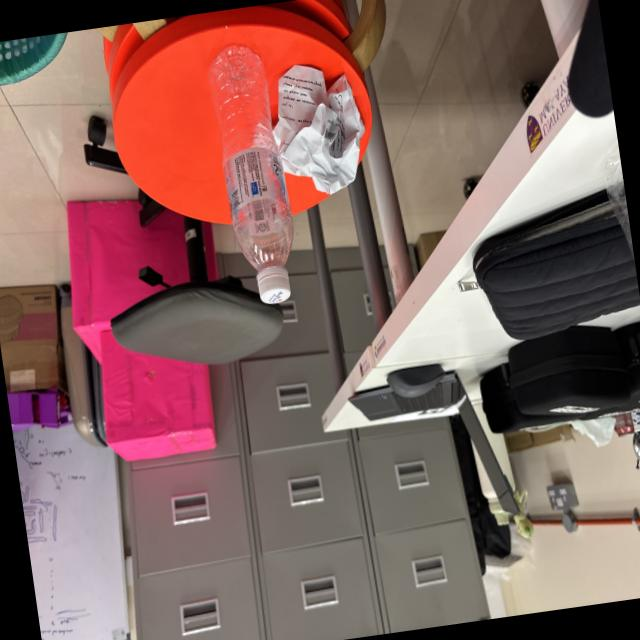crumpled_paper: (258, 46, 382, 212)
plastic_bottle: (202, 35, 308, 320)
